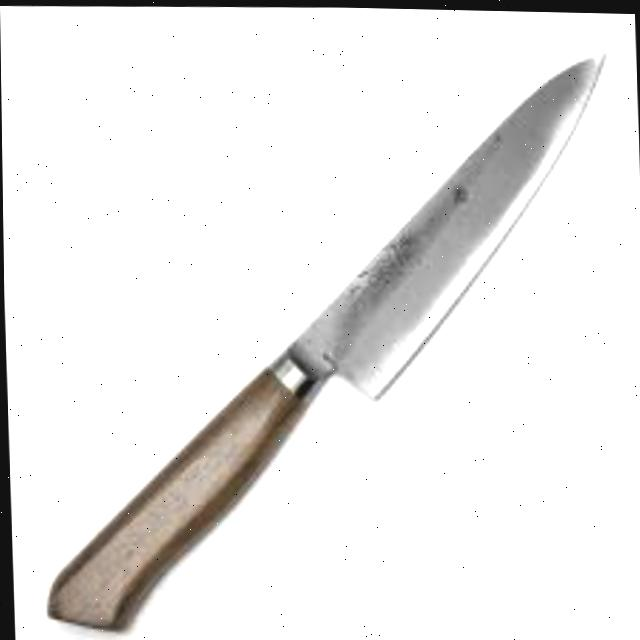knife: (25, 34, 622, 637)
